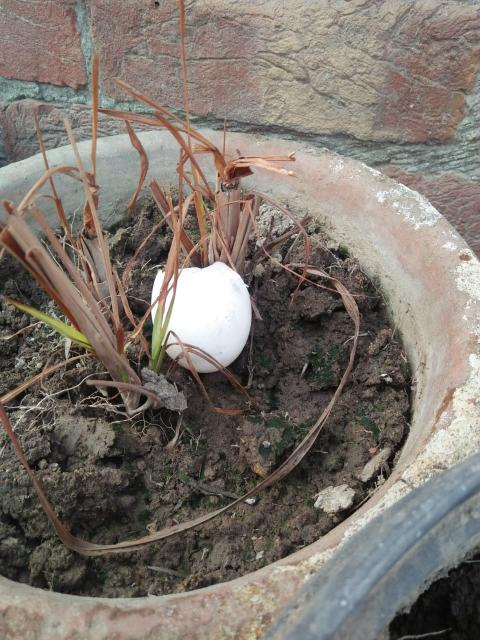Roto: (150, 260, 252, 374)
